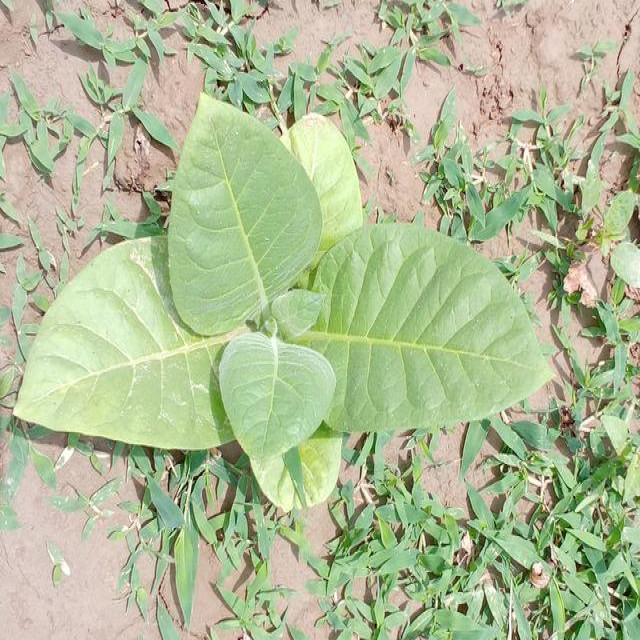crop: (26, 99, 554, 493)
